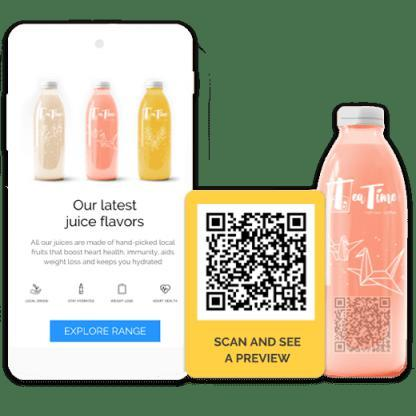qr_code: (206, 213, 306, 311)
